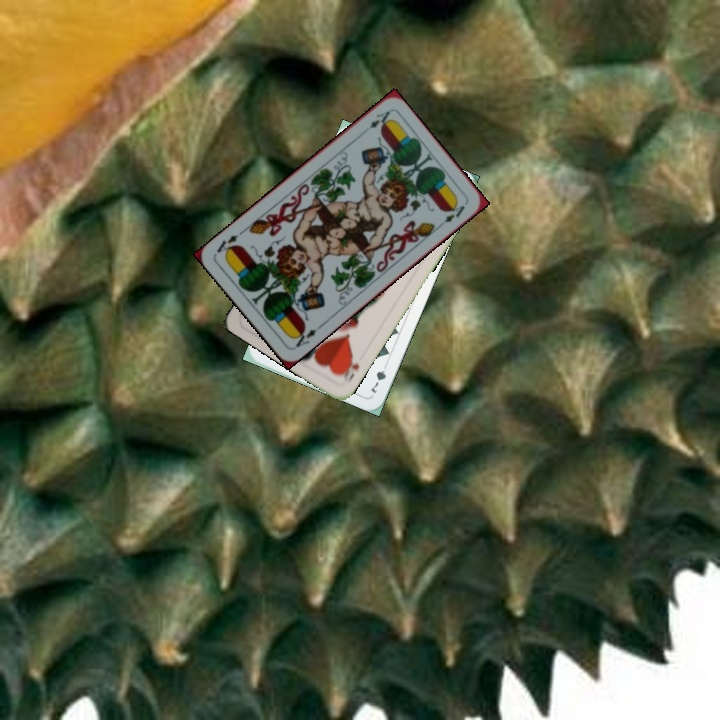EA: (289, 321, 324, 350), (366, 107, 393, 131)
G7: (365, 358, 391, 396)
HO: (336, 351, 362, 386)
